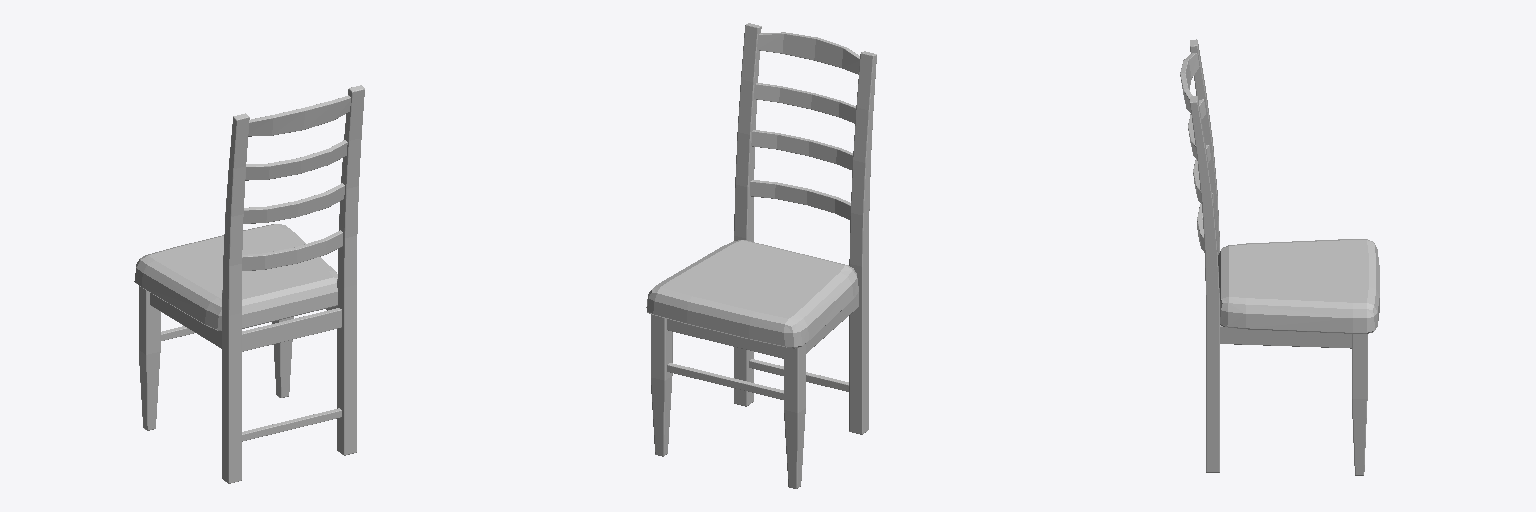
Rendered from Cadeira_Sala_de_Jantar.obj.
3 views of the same model, side by side, from view 1: azimuth 30°, elevation 25°; view 2: azimuth 150°, elevation 25°; view 3: azimuth 270°, elevation 25° (orthographic).
Parts seen in each view (by area): view 1: Cadeira_Sala_de_Jantar; view 2: Cadeira_Sala_de_Jantar; view 3: Cadeira_Sala_de_Jantar.
Part boxes in pixels (bbox=[...]): Cadeira_Sala_de_Jantar: bbox=[134, 85, 364, 483]; Cadeira_Sala_de_Jantar: bbox=[646, 23, 876, 488]; Cadeira_Sala_de_Jantar: bbox=[1180, 39, 1379, 475].
Bounding box in the file's own units: 1.27 × 2.89 × 1.41.